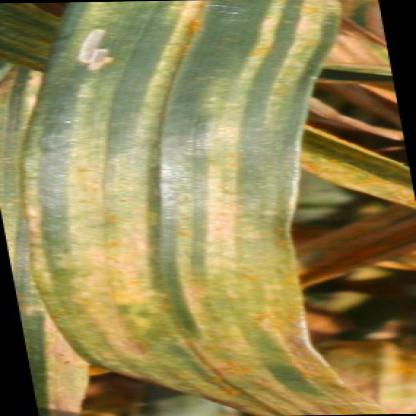Wheat-Yellow-rust: (87, 0, 273, 318), (65, 319, 251, 353), (28, 92, 53, 304), (157, 357, 298, 386), (251, 393, 392, 413), (288, 10, 332, 41)
